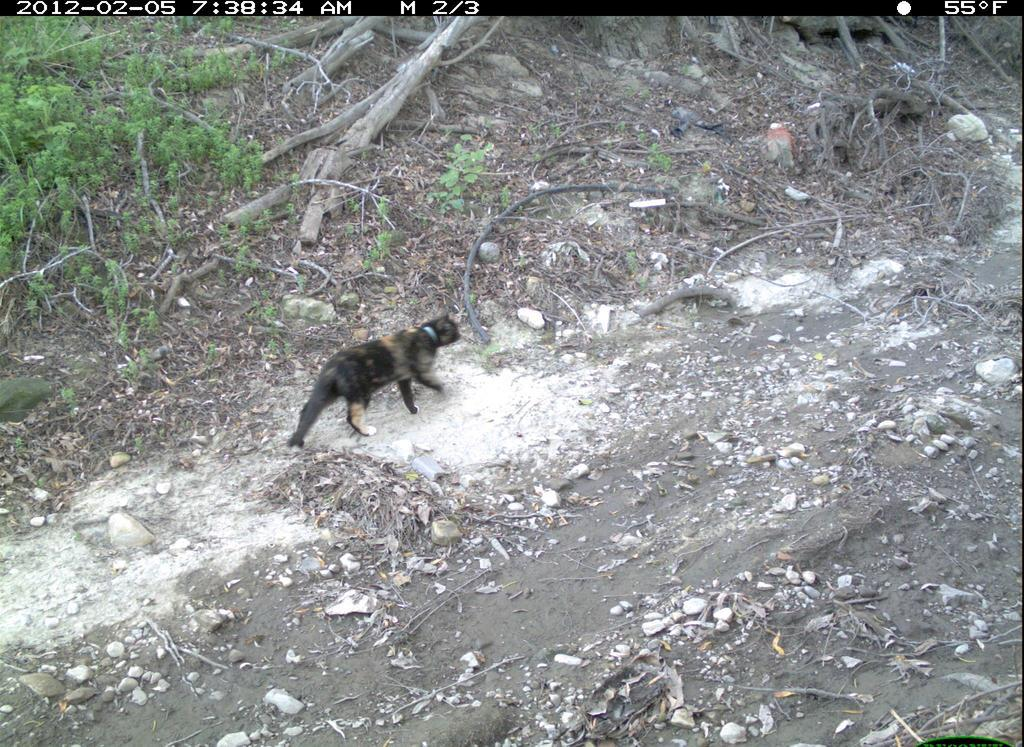cat: (269, 294, 483, 470)
